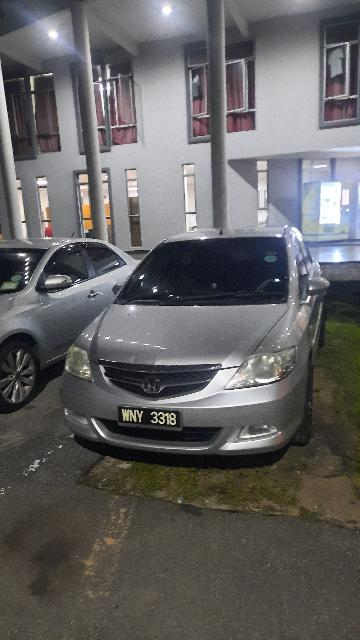License_Plate: (118, 404, 183, 434)
car: (56, 220, 330, 463), (1, 233, 147, 408)
